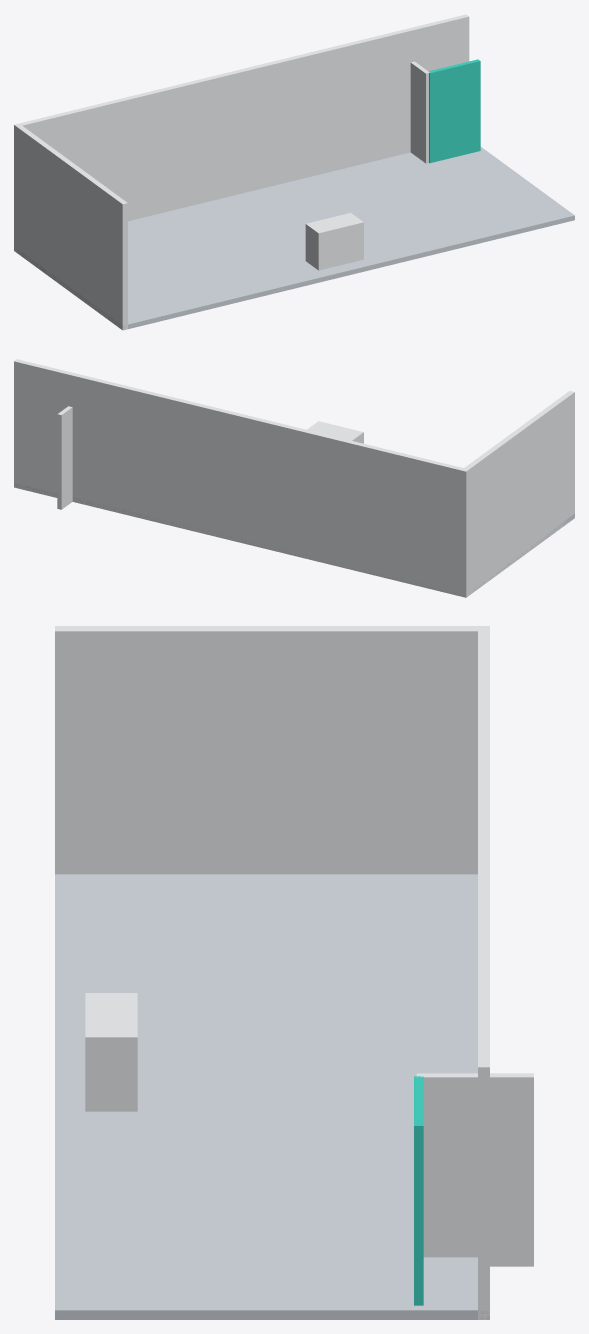
3 views of the same model, one above another, from view 1: azimuth 30°, elevation 25°; view 2: azimuth 150°, elevation 25°; view 3: azimuth 270°, elevation 25° (orthographic). The views are drawn at different scales.
Parts seen in each view (by area): view 1: Exhibition Booth Concept; view 2: Exhibition Booth Concept; view 3: Exhibition Booth Concept.
Part boxes in pixels (x1,y1,x2,y2): Exhibition Booth Concept: (14,14,574,330); Exhibition Booth Concept: (14,359,574,597); Exhibition Booth Concept: (55,626,533,1319).
Size of the model in its own units: 12 by 3.2 by 5.51.
